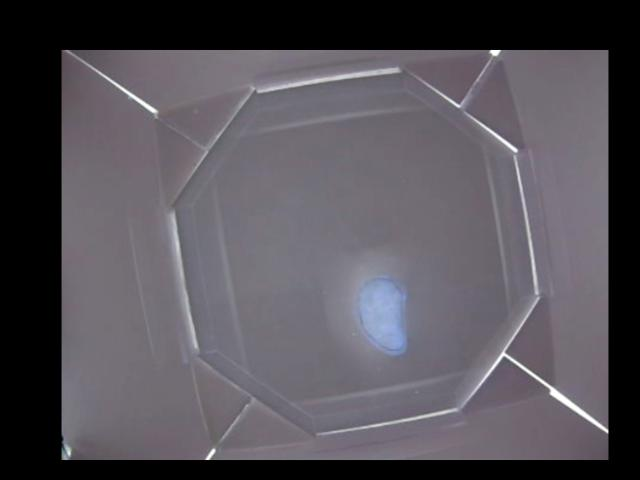Pebble: (358, 278, 407, 354)
